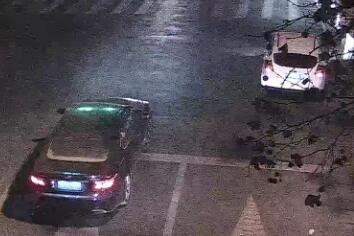car: (25, 96, 152, 217), (261, 28, 328, 95)
